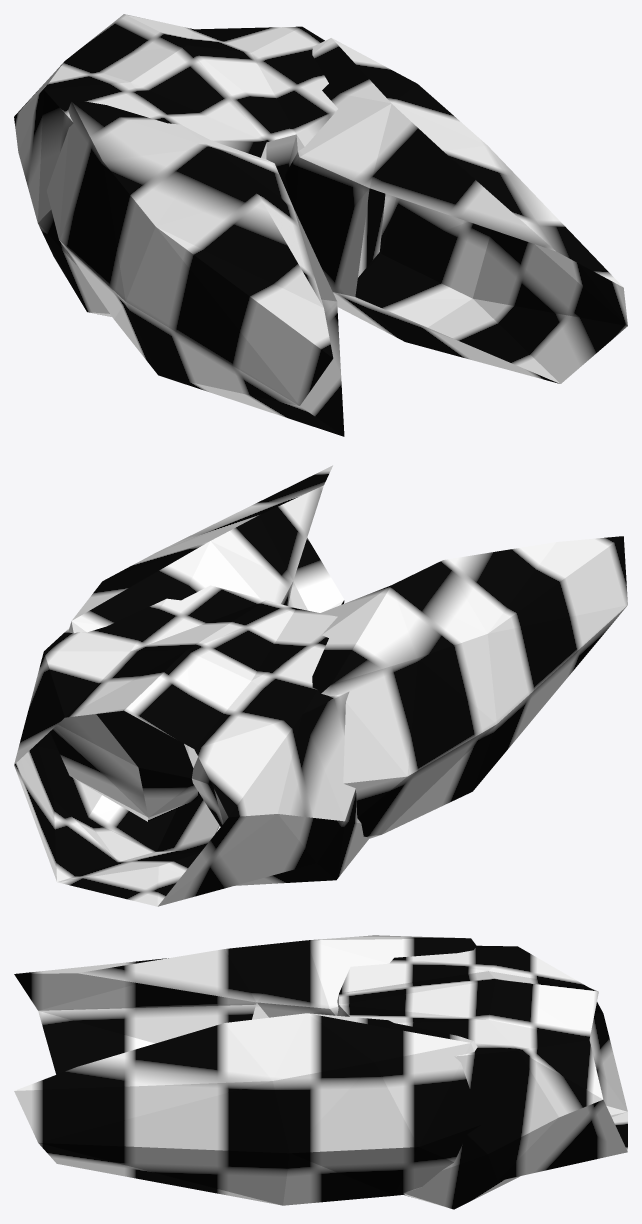
The model's file is initarpt4.dae.
3 renders of one model, top to bottom at view 1: azimuth 30°, elevation 25°; view 2: azimuth 150°, elevation 25°; view 3: azimuth 270°, elevation 25°, orthographic. The views are drawn at different scales.
Visible parts, largest first — view 1: armor; view 2: armor; view 3: armor.
Part boxes in pixels (x1,y1,x2,y2): armor: (14,14,627,436); armor: (14,465,627,906); armor: (14,935,627,1209).
Size of the model in its own units: 0.7947 by 1.38 by 0.5009.
1 material, 1 textured.
